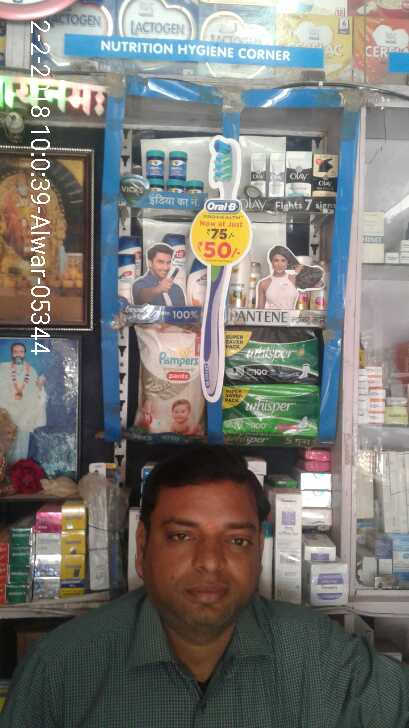vicks: (146, 142, 209, 197)
